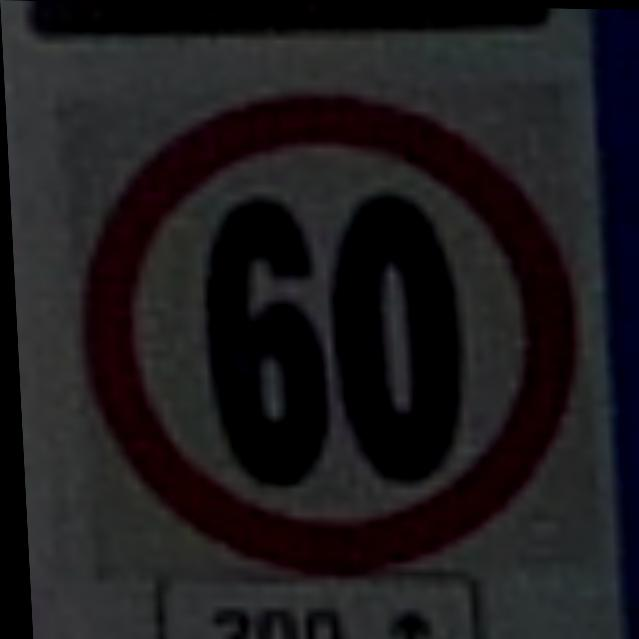limit60: (58, 77, 595, 588)
